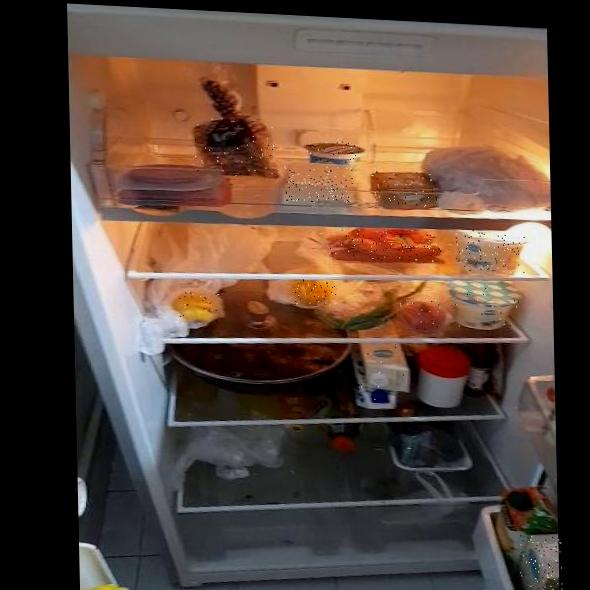bread: (195, 117, 276, 178)
butter: (370, 170, 437, 207)
carrot: (329, 226, 442, 264)
cheese: (284, 165, 353, 204)
lemon: (173, 289, 219, 324), (294, 279, 337, 307)
milk: (352, 344, 408, 410), (518, 535, 563, 590)
tomato: (399, 298, 448, 332)
yoghurt: (450, 280, 521, 331), (455, 229, 526, 274), (306, 140, 362, 165)
